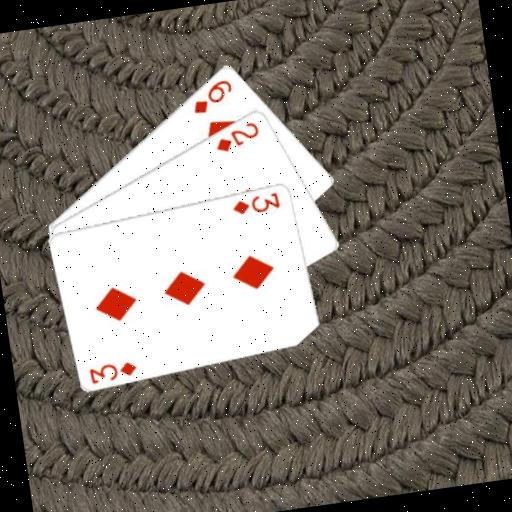2D: (210, 117, 263, 155)
3D: (86, 356, 141, 386), (228, 188, 283, 217)
6D: (187, 75, 237, 116)
